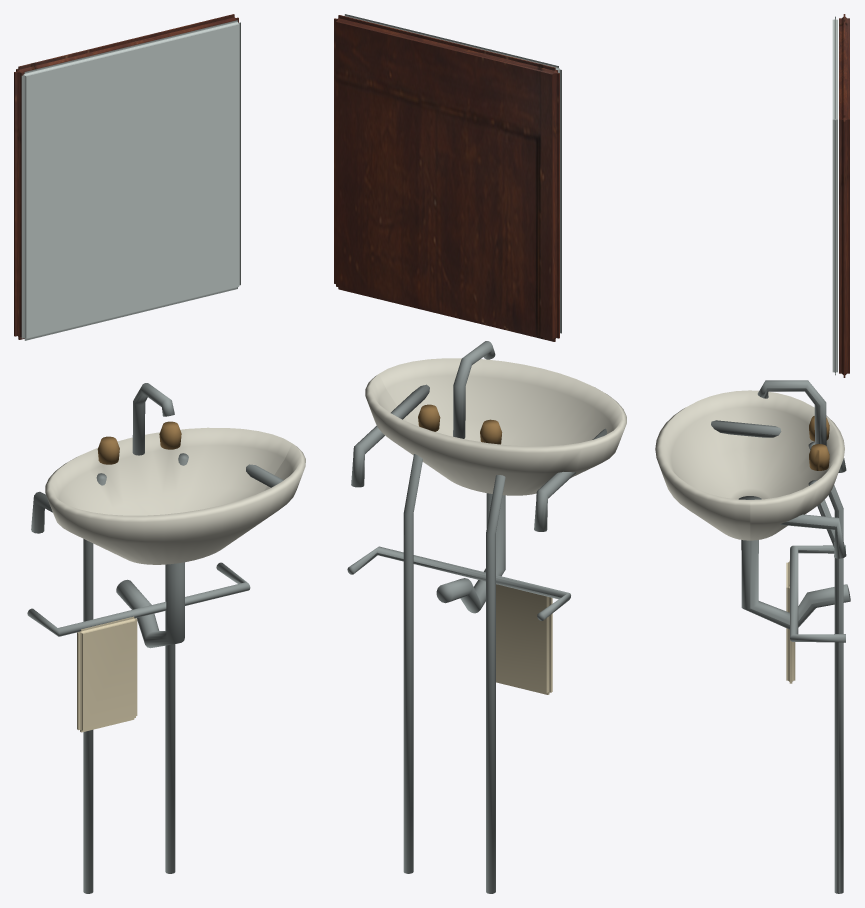
The model's file is flat-washstand.glb.
3 renders of one model, left to right at view 1: azimuth 30°, elevation 25°; view 2: azimuth 150°, elevation 25°; view 3: azimuth 270°, elevation 25°, orthographic. The views are drawn at different scales.
Visible parts, largest first — view 1: Frame; view 2: Frame; view 3: Frame.
Part boxes in pixels (x1=…): Frame: x1=14, y1=14, x2=305, y2=893; Frame: x1=334, y1=14, x2=626, y2=893; Frame: x1=655, y1=14, x2=850, y2=893.
Size of the model in its own units: 0.502 by 1.66 by 0.3645.
Materials: 6 (1 with a texture image).
